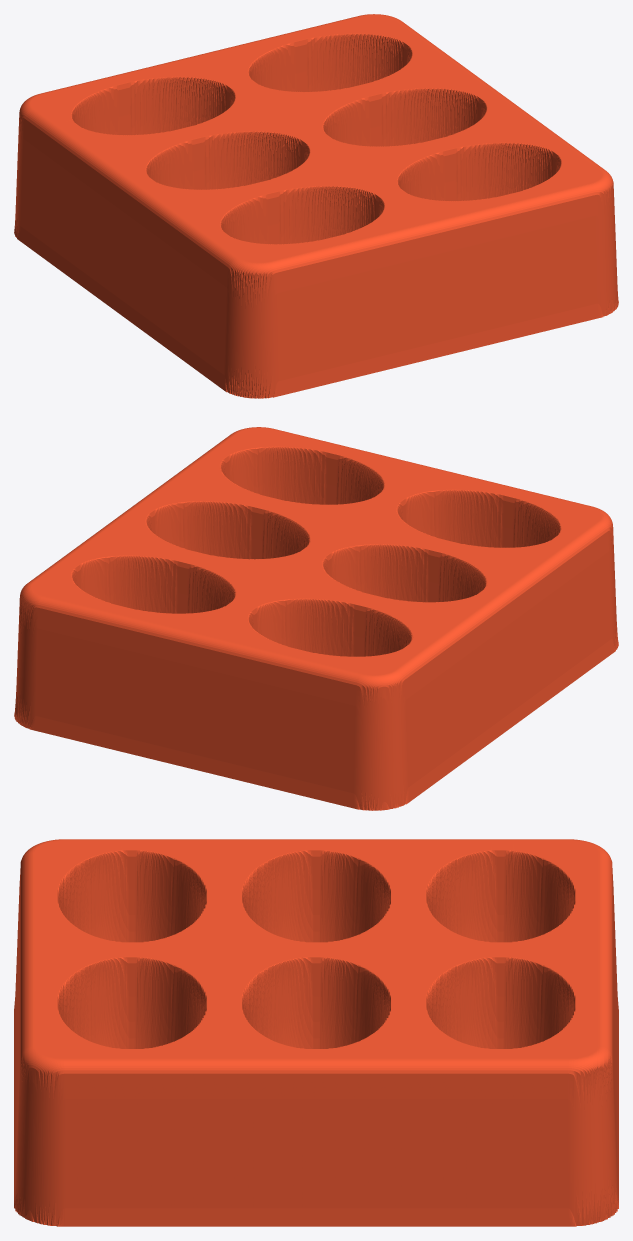
File: mold.glb
3 views of the same model, one above another, from view 1: azimuth 30°, elevation 25°; view 2: azimuth 150°, elevation 25°; view 3: azimuth 270°, elevation 25° (orthographic). The views are drawn at different scales.
Visible parts, largest first — view 1: geometry_0; view 2: geometry_0; view 3: geometry_0.
Part boxes in pixels (x1,y1,x2,y2): geometry_0: (14, 14, 618, 398); geometry_0: (14, 427, 618, 810); geometry_0: (14, 839, 618, 1226).
Bounding box in the file's own units: 0.0996 × 0.0314 × 0.1081.
